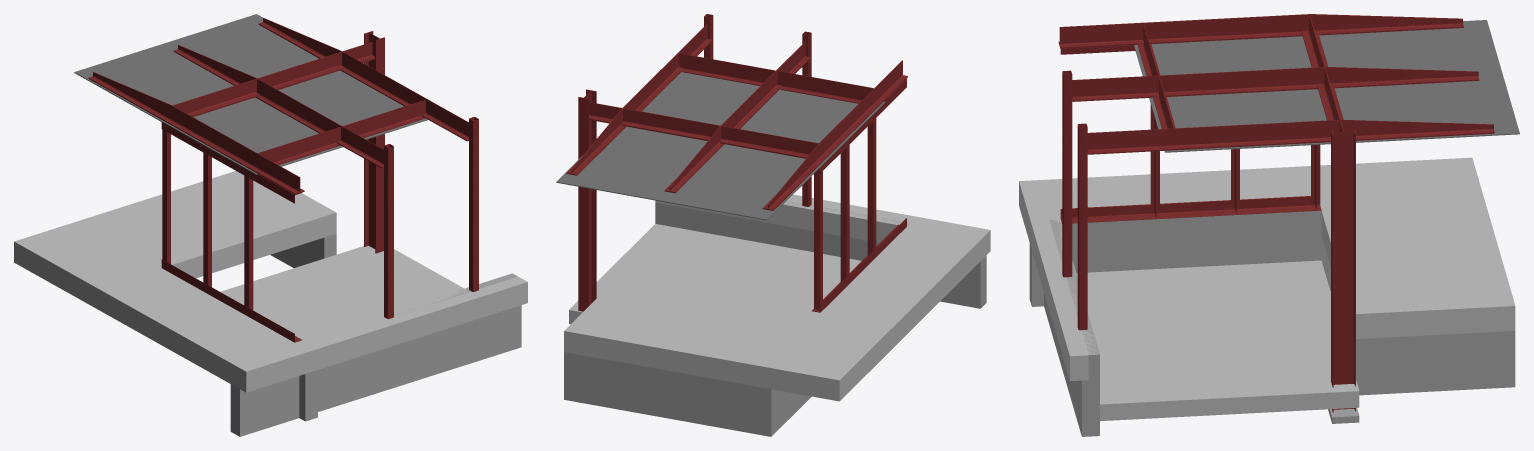
Rendered from entry-canopy.glb.
The picture shows the model from 3 angles, left to right: view 1: azimuth 30°, elevation 25°; view 2: azimuth 150°, elevation 25°; view 3: azimuth 270°, elevation 25°; orthographic projection. The views are drawn at different scales.
Parts seen in each view (by area): view 1: Floor Floors <3090125 12" CIP Concrete<, Floor Floors <3240157 Plate Steel<, Floor Floors <3225475 8" CIP Concrete<, Wall Walls <3332928 CIP_8" Concrete<, FamilyInstance Structural Framing WT Shapes <3363460 WT9x23<, FamilyInstance Structural Framing WT Shapes <3364900 WT9x23<, FamilyInstance Structural Framing WT Shapes <3365134 WT9x23<, Wall Walls <3088119 CIP_8" Concrete<, FamilyInstance Structural Columns W Shapes-Column <3193960 W, FamilyInstance Structural Columns HSS Square-Column <3363209, FamilyInstance Structural Columns HSS Square-Column <3363238, FamilyInstance Structural Framing WT Shapes <3365615 WT8x28. (+10 smaller); view 2: Floor Floors <3090125 12" CIP Concrete<, Floor Floors <3240157 Plate Steel<, Floor Floors <3225475 8" CIP Concrete<, Wall Walls <3343255 CIP_8" Concrete<, Wall Walls <3332928 CIP_8" Concrete<, FamilyInstance Structural Columns W Shapes-Column <3193960 W, FamilyInstance Structural Framing WT Shapes <3363460 WT9x23<, FamilyInstance Structural Framing WT Shapes <3364900 WT9x23<, FamilyInstance Structural Framing WT Shapes <3365134 WT9x23<, FamilyInstance Structural Framing WT Shapes <3365615 WT8x28., FamilyInstance Structural Framing WT Shapes <3388006 WT8x28., FamilyInstance Structural Framing WT Shapes <3365217 WT9x17. (+11 smaller); view 3: Floor Floors <3090125 12" CIP Concrete<, Floor Floors <3225475 8" CIP Concrete<, Floor Floors <3240157 Plate Steel<, Wall Walls <3225363 CIP_8" Concrete<, Wall Walls <3342870 CIP_8" Concrete<, FamilyInstance Structural Framing WT Shapes <3364900 WT9x23<, FamilyInstance Structural Framing WT Shapes <3363460 WT9x23<, FamilyInstance Structural Framing WT Shapes <3365134 WT9x23<, FamilyInstance Structural Columns W Shapes-Column <3193960 W, FamilyInstance Structural Framing L Equal Angles <3390458 L5, Wall Walls <3332928 CIP_8" Concrete<, FamilyInstance Structural Columns HSS Square-Column <3363238 (+10 smaller).
Part boxes in pixels (left/top/right/bottom): Floor Floors <3090125 12" CIP Concrete<: left=14, top=171, right=527, bottom=392; Floor Floors <3240157 Plate Steel<: left=74, top=14, right=427, bottom=174; Floor Floors <3225475 8" CIP Concrete<: left=220, top=246, right=463, bottom=339; Wall Walls <3332928 CIP_8" Concrete<: left=318, top=273, right=521, bottom=411; FamilyInstance Structural Framing WT Shapes <3363460 WT9x23<: left=88, top=72, right=304, bottom=194; FamilyInstance Structural Framing WT Shapes <3364900 WT9x23<: left=173, top=45, right=383, bottom=168; FamilyInstance Structural Framing WT Shapes <3365134 WT9x23<: left=258, top=18, right=468, bottom=141; Wall Walls <3088119 CIP_8" Concrete<: left=230, top=376, right=299, bottom=436; FamilyInstance Structural Columns W Shapes-Column <3193960 W: left=364, top=31, right=384, bottom=253; FamilyInstance Structural Columns HSS Square-Column <3363209: left=384, top=144, right=393, bottom=319; FamilyInstance Structural Columns HSS Square-Column <3363238: left=469, top=117, right=478, bottom=291; FamilyInstance Structural Framing WT Shapes <3365615 WT8x28.: left=172, top=79, right=259, bottom=116; Floor Floors <3090125 12" CIP Concrete<: left=564, top=194, right=990, bottom=401; Floor Floors <3240157 Plate Steel<: left=556, top=70, right=885, bottom=220; Floor Floors <3225475 8" CIP Concrete<: left=569, top=224, right=861, bottom=324; Wall Walls <3343255 CIP_8" Concrete<: left=578, top=354, right=777, bottom=436; Wall Walls <3332928 CIP_8" Concrete<: left=655, top=201, right=910, bottom=260; FamilyInstance Structural Columns W Shapes-Column <3193960 W: left=578, top=89, right=596, bottom=311; FamilyInstance Structural Framing WT Shapes <3363460 WT9x23<: left=762, top=60, right=907, bottom=210; FamilyInstance Structural Framing WT Shapes <3364900 WT9x23<: left=664, top=41, right=810, bottom=193; FamilyInstance Structural Framing WT Shapes <3365134 WT9x23<: left=566, top=24, right=712, bottom=175; FamilyInstance Structural Framing WT Shapes <3365615 WT8x28.: left=719, top=126, right=818, bottom=158; FamilyInstance Structural Framing WT Shapes <3388006 WT8x28.: left=621, top=108, right=720, bottom=140; FamilyInstance Structural Framing WT Shapes <3365217 WT9x17.: left=777, top=71, right=873, bottom=103; Floor Floors <3090125 12" CIP Concrete<: left=1019, top=157, right=1515, bottom=381; Floor Floors <3225475 8" CIP Concrete<: left=1076, top=260, right=1359, bottom=421; Floor Floors <3240157 Plate Steel<: left=1134, top=20, right=1519, bottom=152; Wall Walls <3225363 CIP_8" Concrete<: left=1072, top=210, right=1321, bottom=273; Wall Walls <3342870 CIP_8" Concrete<: left=1356, top=331, right=1515, bottom=395; FamilyInstance Structural Framing WT Shapes <3364900 WT9x23<: left=1072, top=67, right=1479, bottom=101; FamilyInstance Structural Framing WT Shapes <3363460 WT9x23<: left=1058, top=14, right=1463, bottom=48; FamilyInstance Structural Framing WT Shapes <3365134 WT9x23<: left=1087, top=119, right=1494, bottom=154; FamilyInstance Structural Columns W Shapes-Column <3193960 W: left=1331, top=128, right=1355, bottom=412; FamilyInstance Structural Framing L Equal Angles <3390458 L5: left=1060, top=196, right=1321, bottom=223; Wall Walls <3332928 CIP_8" Concrete<: left=1044, top=219, right=1099, bottom=436; FamilyInstance Structural Columns HSS Square-Column <3363238: left=1077, top=123, right=1087, bottom=330.
Size of the model in its own units: 17.09 by 11.39 by 18.21.
